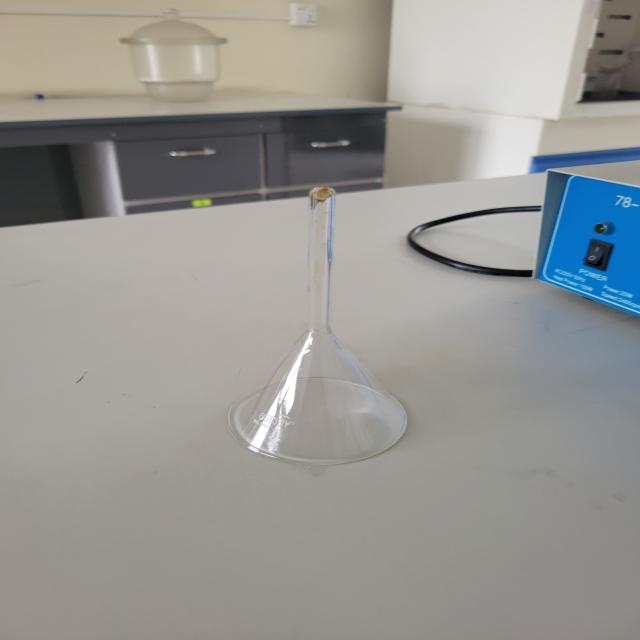Funnel: (198, 169, 447, 484)
